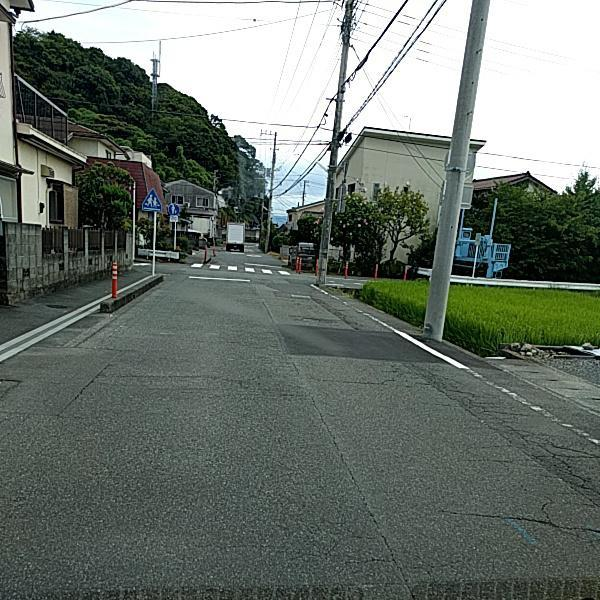D10: (452, 498, 599, 540), (96, 371, 235, 393), (303, 374, 398, 388)
D20: (391, 361, 592, 488)
